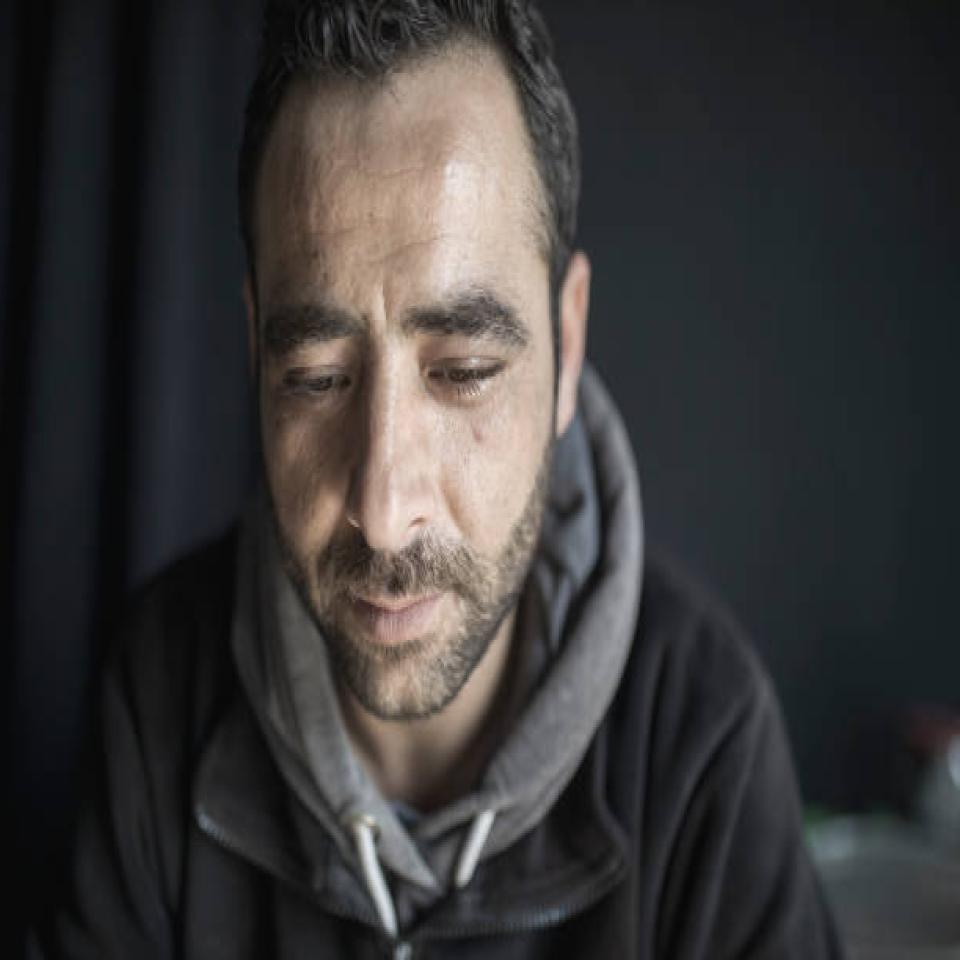Sadness: (260, 116, 550, 714)
